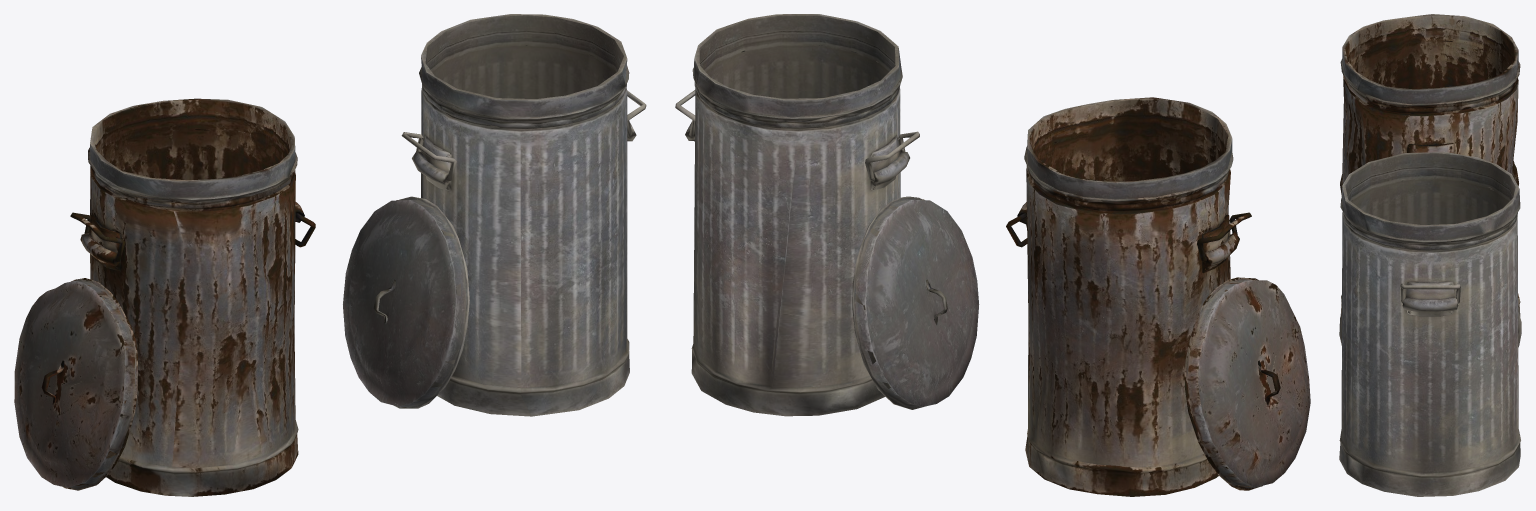
The model's file is metal_trash_can.fbx.
3 views of the same model, side by side, from view 1: azimuth 30°, elevation 25°; view 2: azimuth 150°, elevation 25°; view 3: azimuth 270°, elevation 25° (orthographic). The views are drawn at different scales.
Parts seen in each view (by area): view 1: metal_trash_can_LOD0; view 2: metal_trash_can_LOD0; view 3: metal_trash_can_LOD0.
Part boxes in pixels (x1,y1,x2,y2): metal_trash_can_LOD0: (14,14,646,496); metal_trash_can_LOD0: (675,14,1310,496); metal_trash_can_LOD0: (1339,14,1521,496).
Size of what is drawn, in the model's own units: 178 by 90.64 by 55.6.
2 materials, 2 textured.
